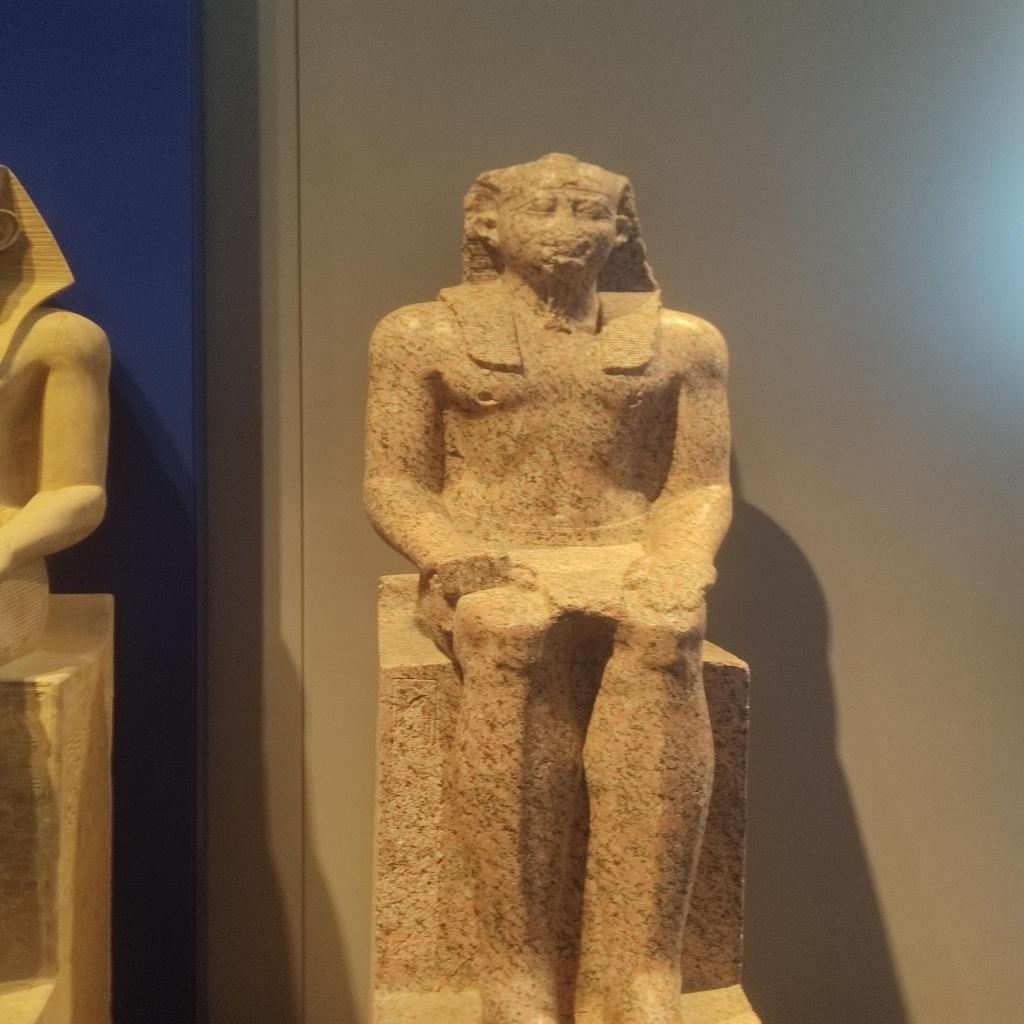Statue of Amenmhat I: (358, 150, 743, 1021)
